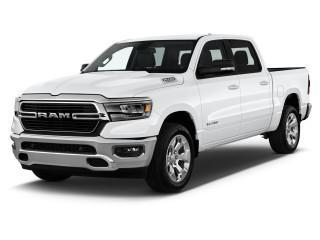ram: (34, 106, 74, 125)
